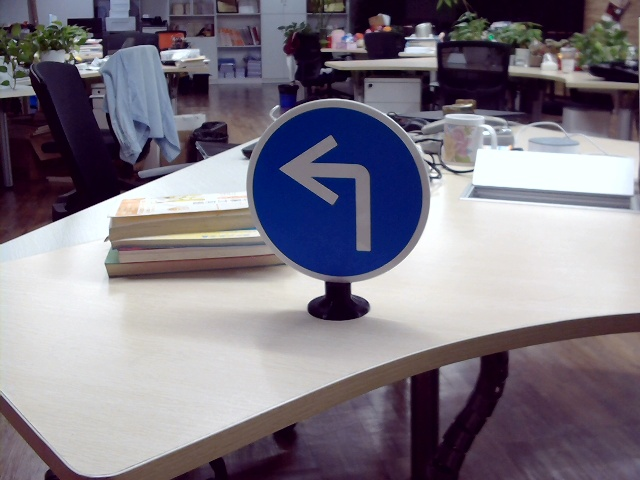turn_left: (279, 131, 382, 255)
